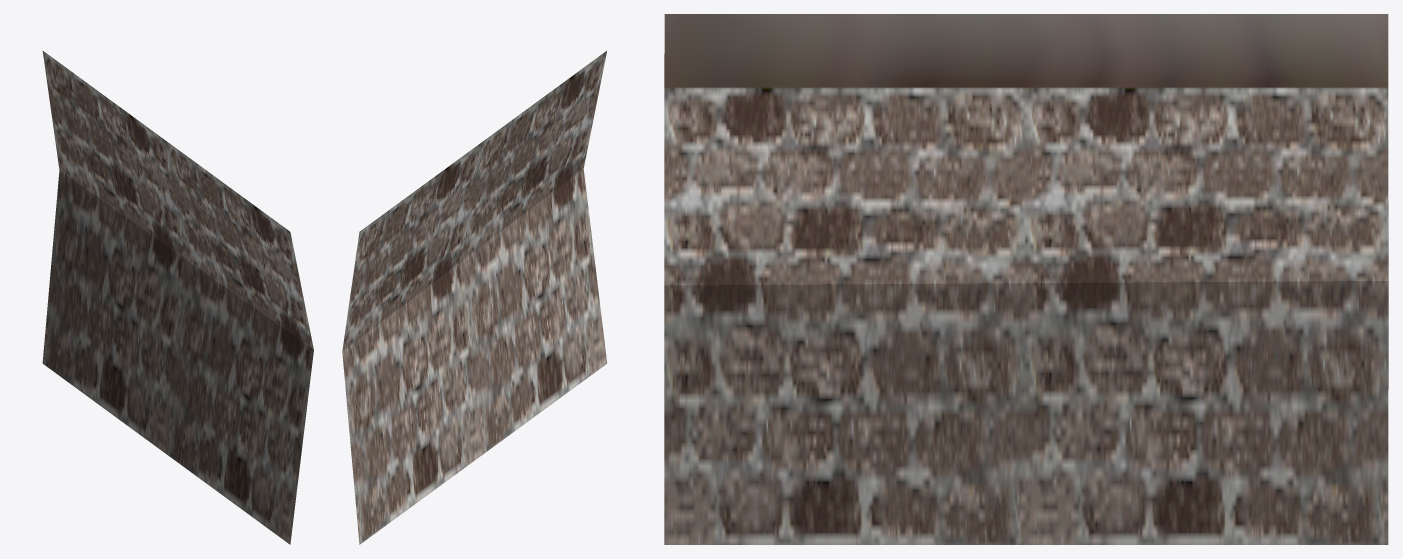
The model's file is W_A3_xx [Steine]_988.glb.
3 renders of one model, left to right at view 1: azimuth 30°, elevation 25°; view 2: azimuth 150°, elevation 25°; view 3: azimuth 270°, elevation 25°, orthographic. The views are drawn at different scales.
Visible parts, largest first — view 1: pPlaneShape1; view 2: pPlaneShape1; view 3: pPlaneShape1, polySurfaceShape1065.
Part boxes in pixels (bbox=[...]): pPlaneShape1: bbox=[42, 51, 313, 544]; pPlaneShape1: bbox=[342, 51, 607, 544]; pPlaneShape1: bbox=[664, 87, 1388, 544]; polySurfaceShape1065: bbox=[664, 14, 1388, 87].
Size of the model in its own units: 0.0607 by 0.3891 by 0.5003.
Materials: 2 (2 with a texture image).
